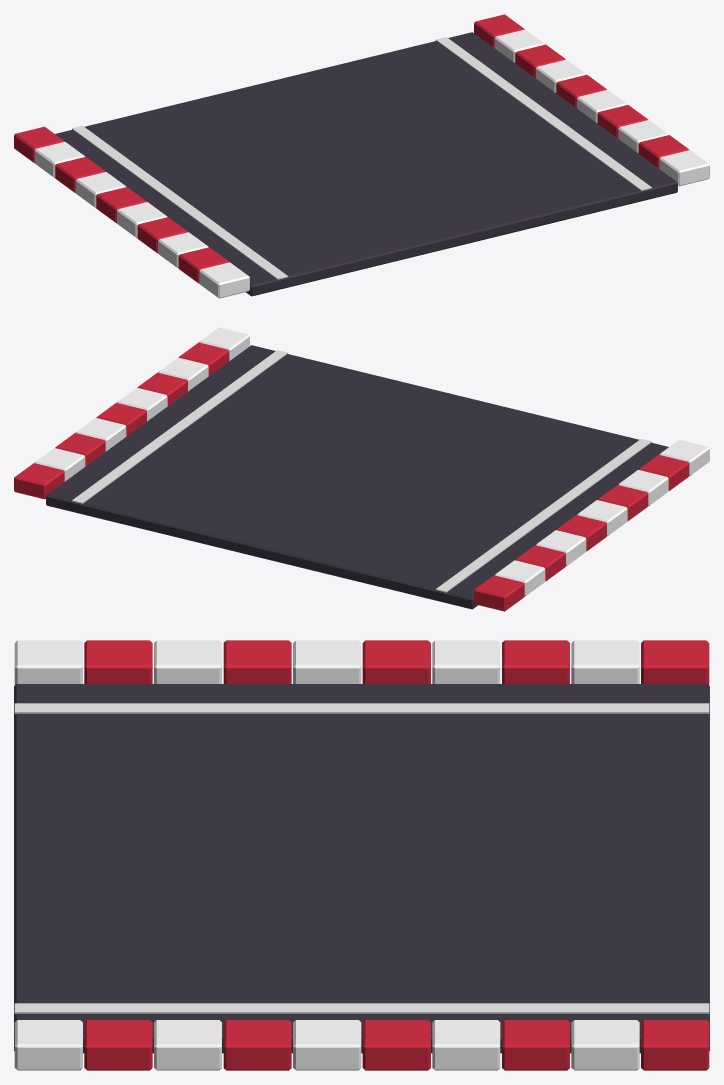
Rendered from trk_road_straight.glb.
3 views of the same model, one above another, from view 1: azimuth 30°, elevation 25°; view 2: azimuth 150°, elevation 25°; view 3: azimuth 270°, elevation 25° (orthographic). The views are drawn at different scales.
Parts seen in each view (by area): view 1: trk_road_straight; view 2: trk_road_straight; view 3: trk_road_straight.
Part boxes in pixels (<box>): trk_road_straight: <box>14,14,709,298</box>; trk_road_straight: <box>14,327,709,611</box>; trk_road_straight: <box>14,640,709,1070</box>.
Bounding box in the file's own units: 13.8 × 0.5694 × 10.
Materials: 1 (1 with a texture image).
